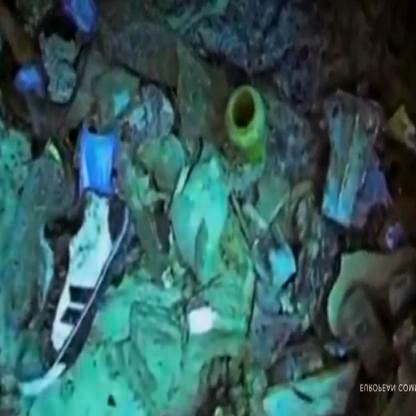can: (222, 85, 272, 161)
misc: (33, 181, 142, 393)
